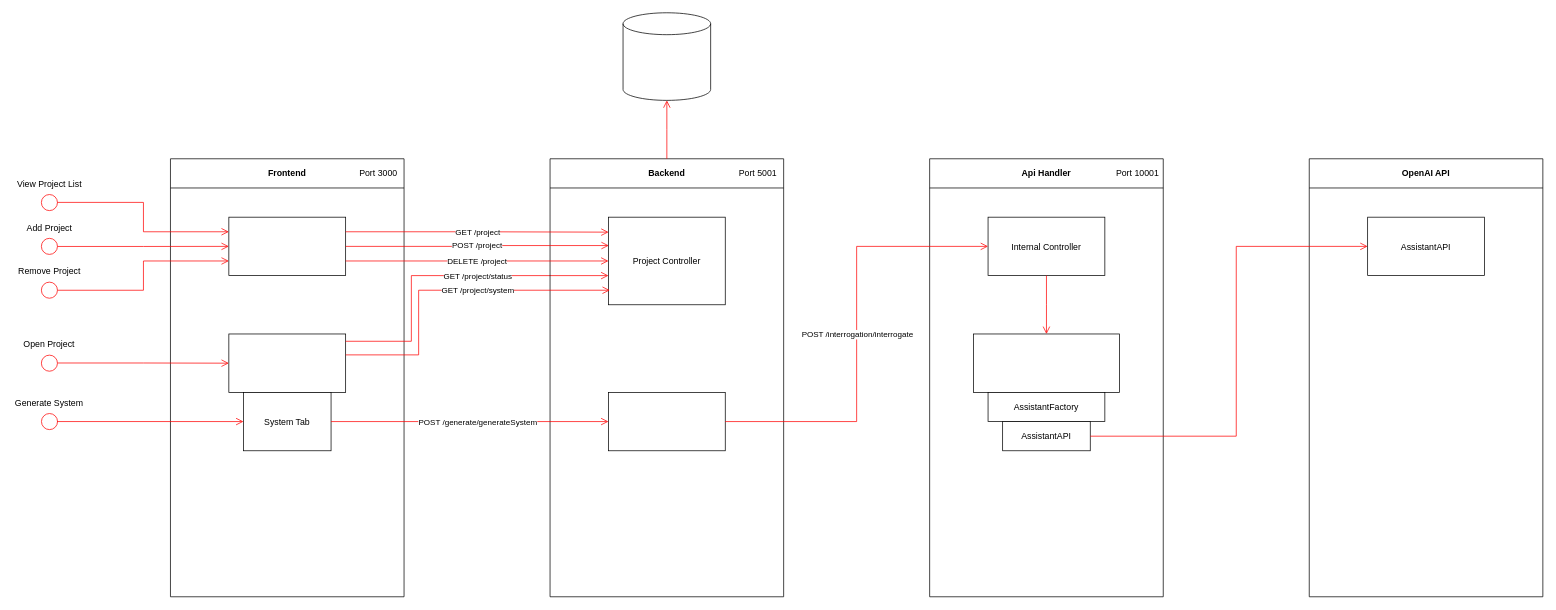
The diagram is 1556 pixels wide and 610 high, and some of its shapes have lost their labels. The centre of each missing label's shape, as x and y in pixels:
AssistantOrchestrator: (x=1046, y=362)
Generation Controller: (x=666, y=421)
Home Page: (x=287, y=246)
MongoDB: (x=666, y=56)
Project Overview: (x=287, y=362)
